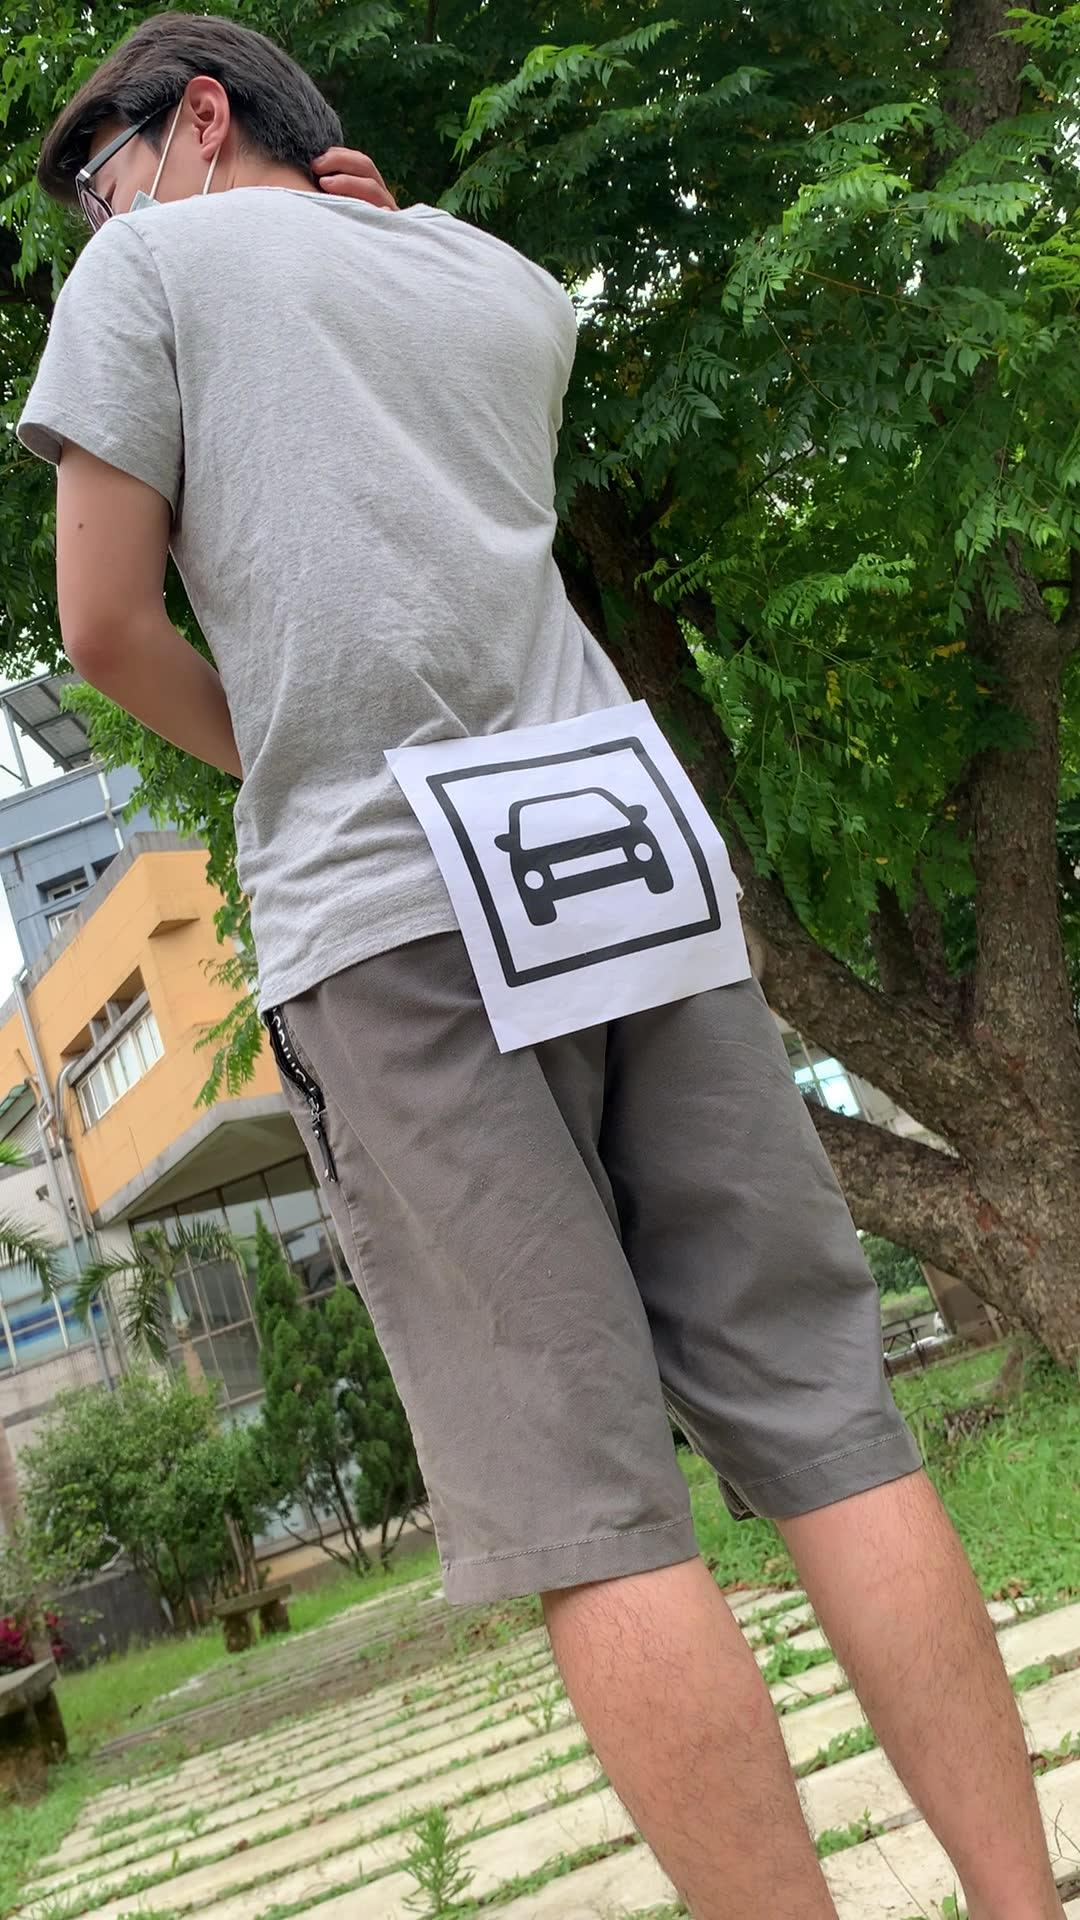car_img: (425, 735, 723, 989)
